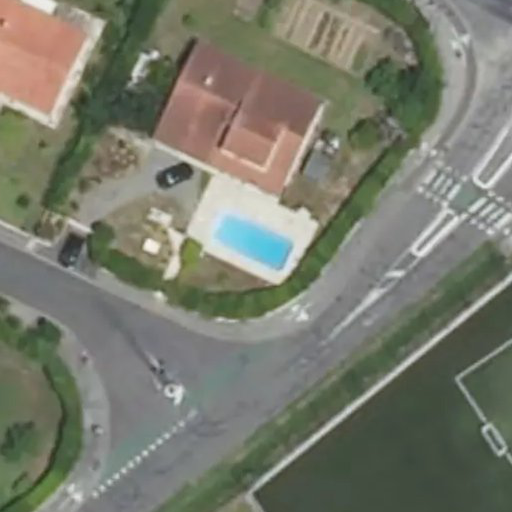pool: (214, 213, 296, 272)
